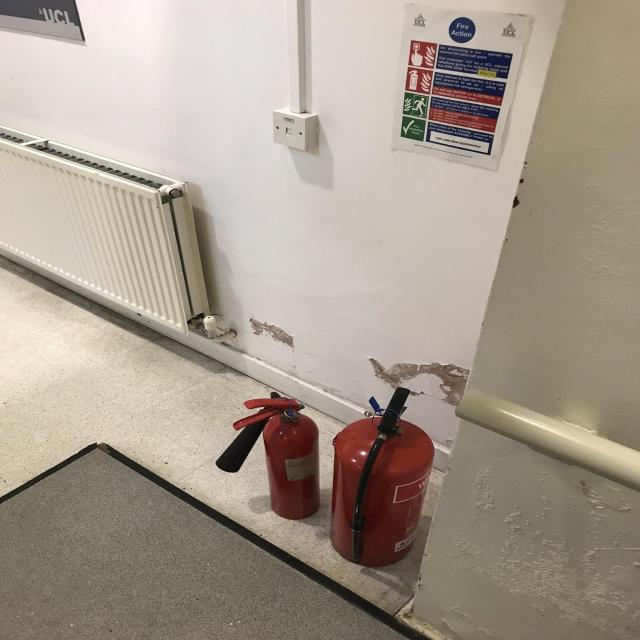fire_extinguisher: (323, 384, 438, 570), (210, 390, 324, 522)
